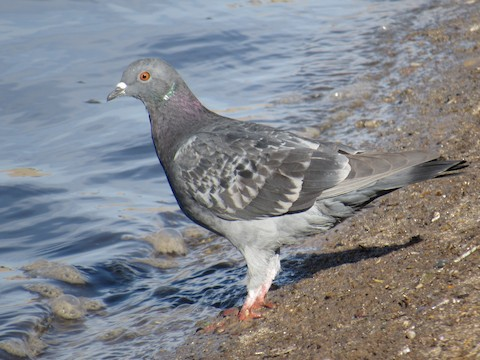pigeon: (104, 53, 475, 330)
